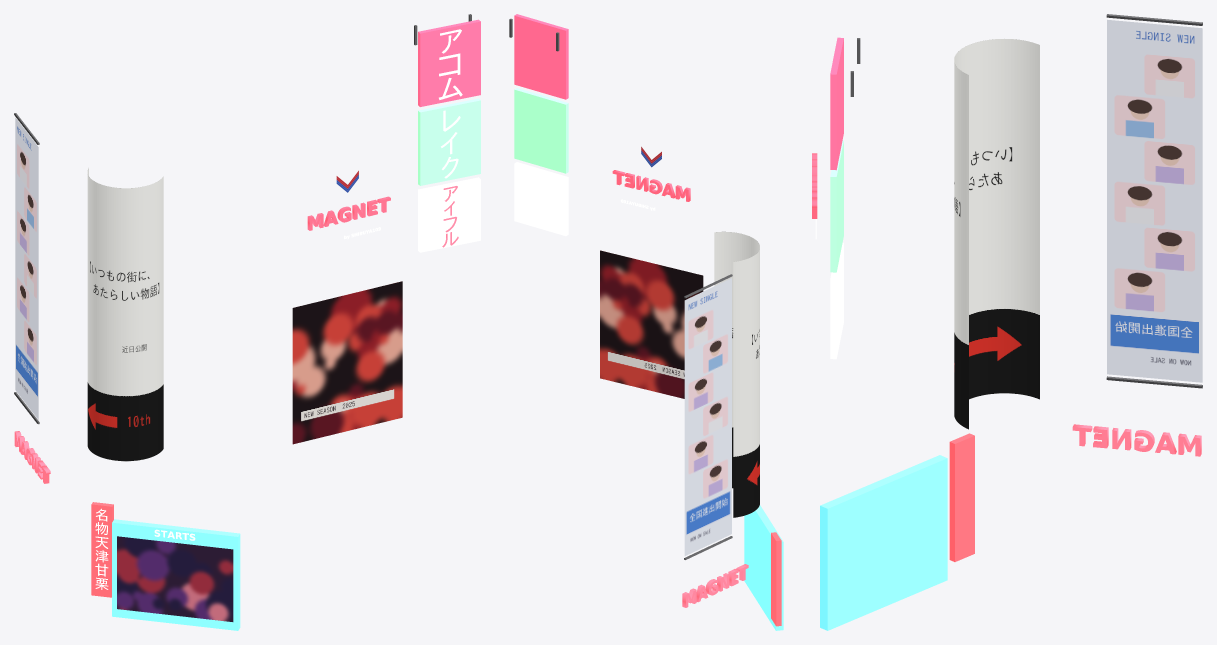
The model's file is magnet_signs_2025.glb.
3 renders of one model, left to right at view 1: azimuth 30°, elevation 25°; view 2: azimuth 150°, elevation 25°; view 3: azimuth 270°, elevation 25°, orthographic. The views are drawn at different scales.
Visible parts, largest first — view 1: 08_SIGNS_2025_drum_wrap, 08_SIGNS_2025_box_screen, 08_SIGNS_2025_starts_led, 08_SIGNS_2025_west_banner, 08_SIGNS_2025_eiraku_lake, 08_SIGNS_2025_eiraku_acom, 08_SIGNS_2025_starts_led_frame, 08_SIGNS_2025_eiraku_aiful, 08_SIGNS_2025_amaguri, MAGNET, MAGNET.001; view 2: 08_SIGNS_2025_west_banner, 08_SIGNS_2025_box_screen, 08_SIGNS_2025_drum_wrap, 08_SIGNS_2025_eiraku_lake, 08_SIGNS_2025_eiraku_acom, 08_SIGNS_2025_eiraku_aiful, 08_SIGNS_2025_starts_led_frame, MAGNET.001, 08_SIGNS_2025_amaguri, MAGNET, 08_SIGNS_2025_steel_dark; view 3: 08_SIGNS_2025_west_banner, 08_SIGNS_2025_drum_wrap, 08_SIGNS_2025_starts_led_frame, 08_SIGNS_2025_amaguri, MAGNET.001, 08_SIGNS_2025_eiraku_acom, 08_SIGNS_2025_eiraku_lake, 08_SIGNS_2025_eiraku_aiful, 08_SIGNS_2025_steel_dark.
Part boxes in pixels (x1,y1,x2,y2): 08_SIGNS_2025_drum_wrap: (87,168,163,461); 08_SIGNS_2025_box_screen: (292,281,402,444); 08_SIGNS_2025_starts_led: (117,536,233,621); 08_SIGNS_2025_west_banner: (15,117,38,419); 08_SIGNS_2025_eiraku_lake: (418,98,480,185); 08_SIGNS_2025_eiraku_acom: (418,19,480,106); 08_SIGNS_2025_starts_led_frame: (112,519,240,630); 08_SIGNS_2025_eiraku_aiful: (418,177,480,252); 08_SIGNS_2025_amaguri: (91,502,113,597); MAGNET: (307,196,390,230); MAGNET.001: (14,431,50,483); 08_SIGNS_2025_west_banner: (684,278,731,555); 08_SIGNS_2025_box_screen: (600,250,703,398); 08_SIGNS_2025_drum_wrap: (714,231,759,517); 08_SIGNS_2025_eiraku_lake: (514,88,568,173); 08_SIGNS_2025_eiraku_acom: (514,14,568,99); 08_SIGNS_2025_eiraku_aiful: (514,162,568,236); 08_SIGNS_2025_starts_led_frame: (744,505,783,630); MAGNET.001: (682,564,748,607); 08_SIGNS_2025_amaguri: (771,532,781,626); MAGNET: (612,170,690,201); 08_SIGNS_2025_steel_dark: (509,18,732,559); 08_SIGNS_2025_west_banner: (1107,19,1202,382); 08_SIGNS_2025_drum_wrap: (954,39,1039,429); 08_SIGNS_2025_starts_led_frame: (820,455,947,630); 08_SIGNS_2025_amaguri: (949,433,974,561); MAGNET.001: (1072,424,1201,456); 08_SIGNS_2025_eiraku_acom: (830,37,843,170); 08_SIGNS_2025_eiraku_lake: (830,140,843,272); 08_SIGNS_2025_eiraku_aiful: (830,242,843,359); 08_SIGNS_2025_steel_dark: (850,14,1202,388).
Size of the model in its own units: 23.56 by 36.1 by 17.99.
19 materials, 5 textured.
